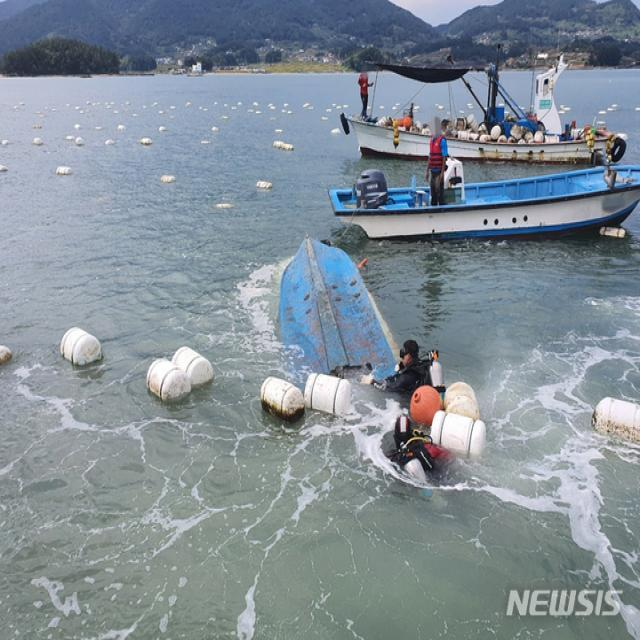Ship: (323, 153, 640, 264), (332, 54, 632, 170)
